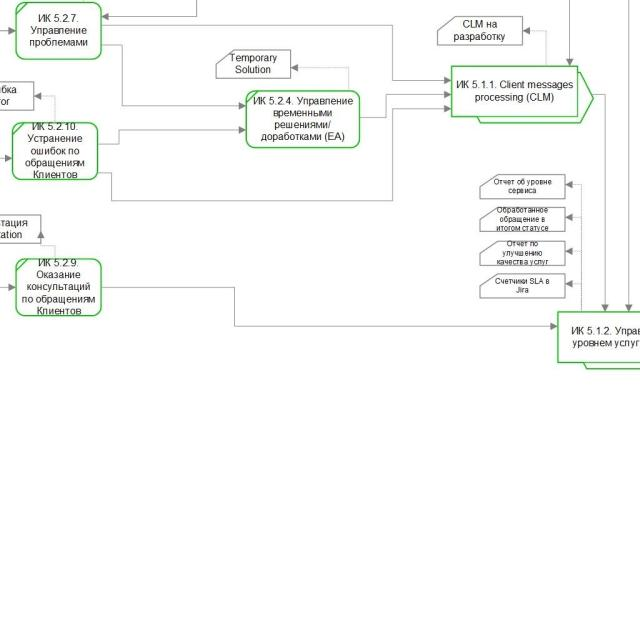arrow: (95, 103, 450, 202), (101, 283, 558, 344), (100, 42, 247, 112), (98, 124, 246, 146), (360, 90, 451, 122), (566, 180, 584, 312), (290, 62, 352, 91), (523, 27, 550, 65), (36, 91, 60, 122), (37, 232, 59, 257)
